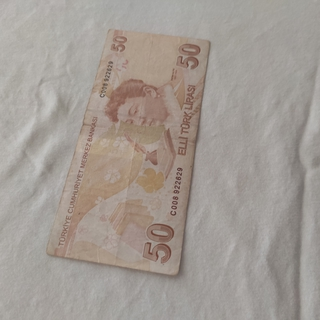50TLBack: (45, 28, 210, 277)
